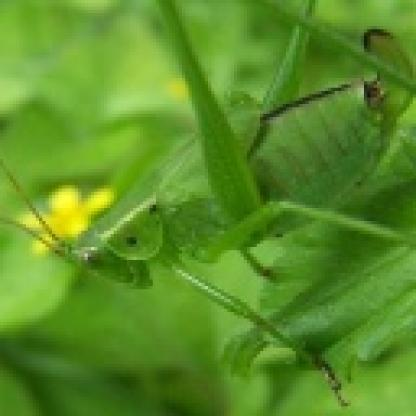grasshopper: (3, 5, 415, 416)
